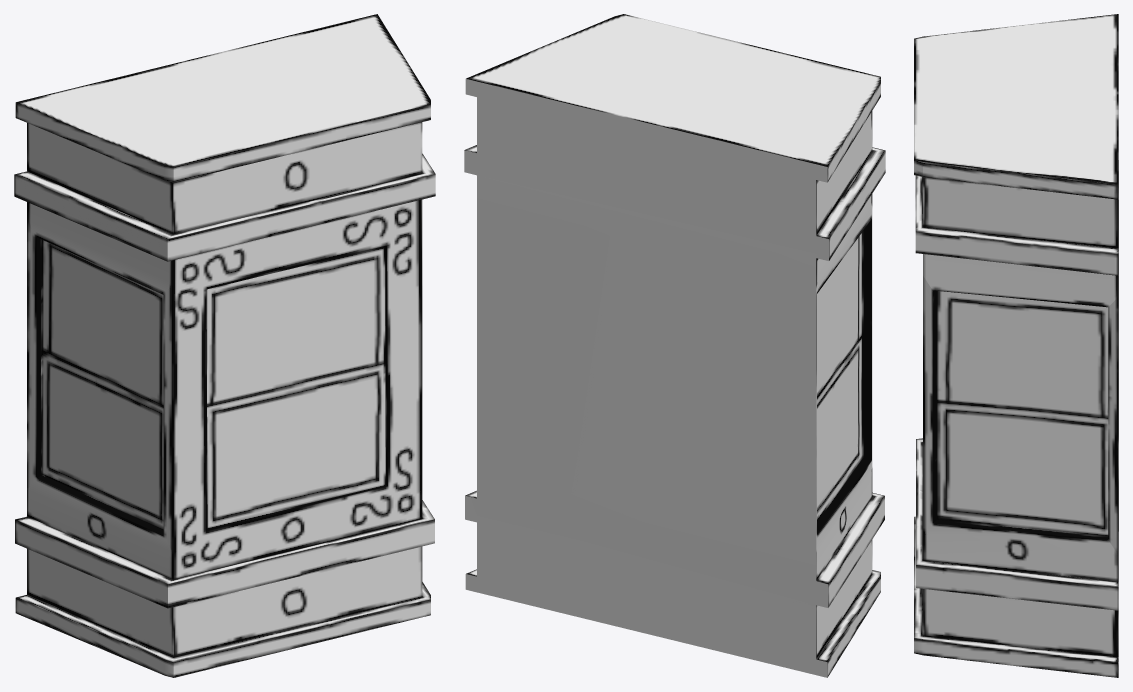
Rendered from BayWindow01.glb.
3 views of the same model, side by side, from view 1: azimuth 30°, elevation 25°; view 2: azimuth 150°, elevation 25°; view 3: azimuth 270°, elevation 25° (orthographic). The views are drawn at different scales.
Visible parts, largest first — view 1: BayWindow; view 2: BayWindow; view 3: BayWindow.
Part boxes in pixels (left/top/right/bottom): BayWindow: left=14, top=14, right=435, bottom=677; BayWindow: left=464, top=14, right=885, bottom=677; BayWindow: left=914, top=14, right=1118, bottom=677.
Size of the model in its own units: 8.61 by 11.52 by 4.33.
1 material, 1 textured.
